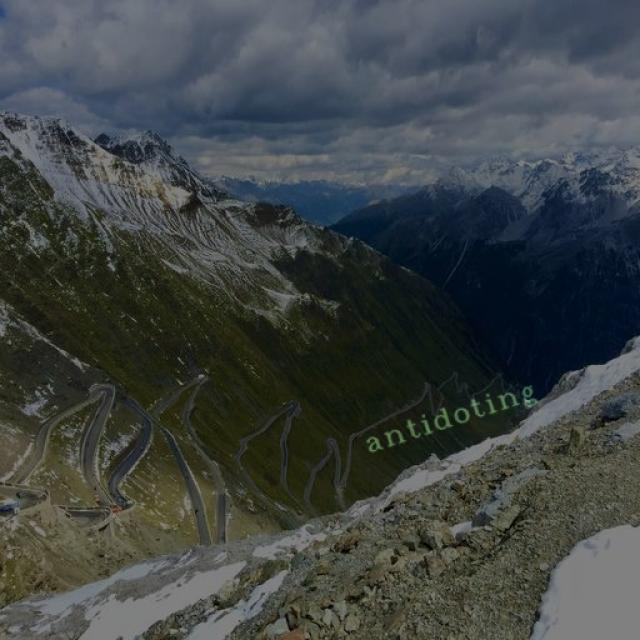watermark: (359, 375, 539, 457)
